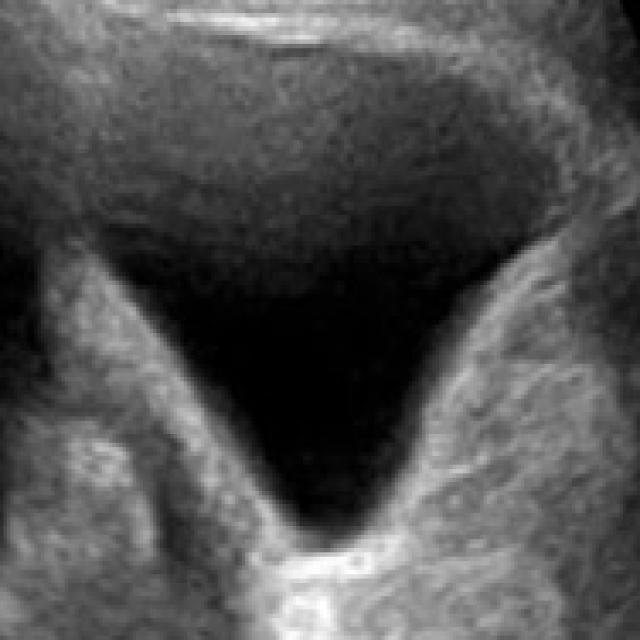bladder: (49, 15, 631, 612)
